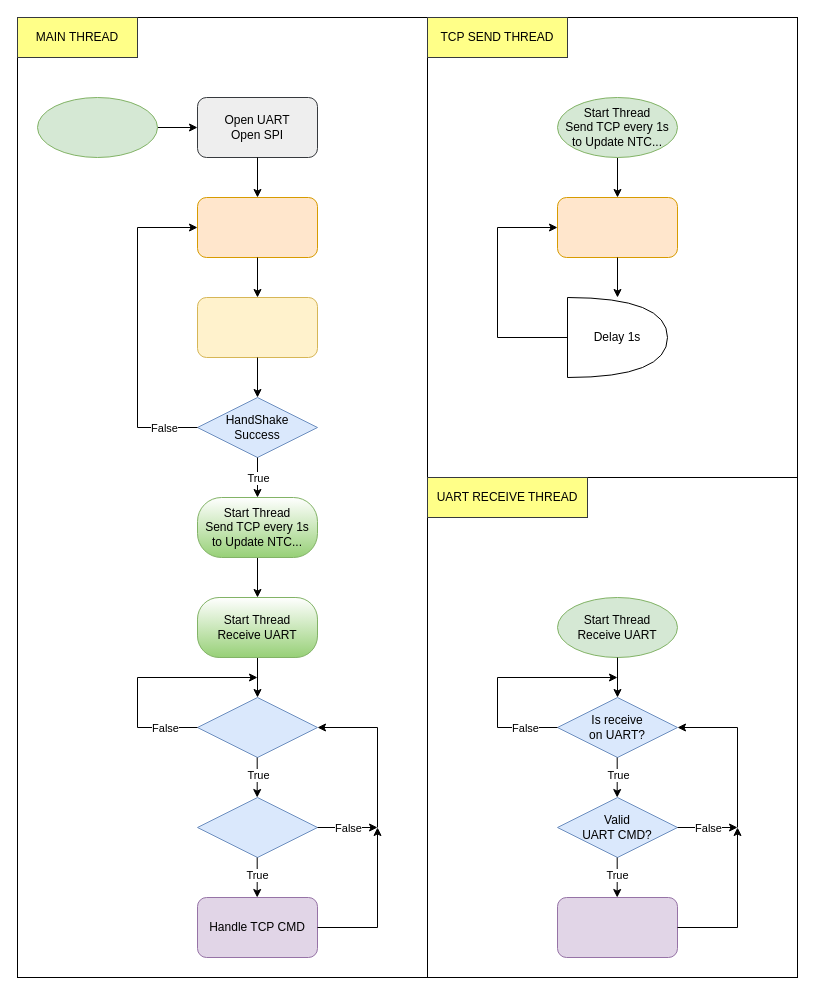
This 815x995 diagram has some shape labels left out. The box of each missing label's shape, as (x1, y1, x2, y2) in pixels:
Connect To Server: (196, 196, 318, 258)
Handle UART CMD: (556, 896, 678, 958)
HandShake: (196, 296, 318, 358)
Is receive on TCP?: (196, 696, 318, 758)
Send NTC, Pressure to Server: (556, 196, 678, 258)
Start Main Thread: (36, 96, 158, 158)
Valid TCP CMD?: (196, 796, 318, 858)
